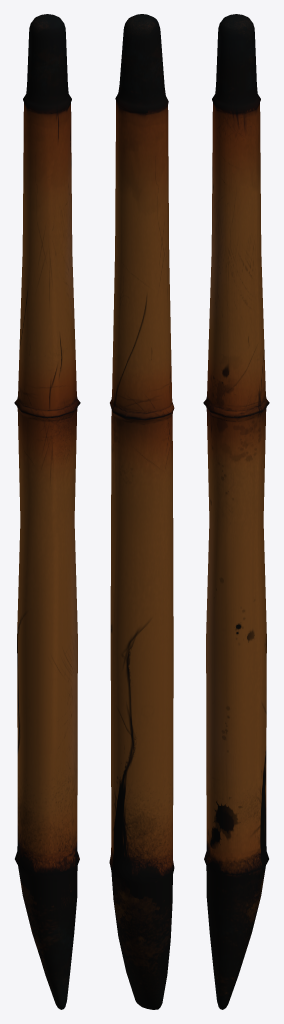
The model's file is SM_bamboo_pen.fbx.
3 renders of one model, left to right at view 1: azimuth 90°, elevation 25°; view 2: azimuth 150°, elevation 25°; view 3: azimuth 270°, elevation 25°, orthographic.
Parts seen in each view (by area): view 1: bamboo_pen_geo; view 2: bamboo_pen_geo; view 3: bamboo_pen_geo.
Boxes of the visible parts, left/top/right/bottom form: bamboo_pen_geo: left=14, top=14, right=80, bottom=1009; bamboo_pen_geo: left=109, top=14, right=174, bottom=1009; bamboo_pen_geo: left=203, top=14, right=269, bottom=1009.
Bounding box in the file's own units: 0.9731 × 15.47 × 0.9443.
Materials: 1 (1 with a texture image).
